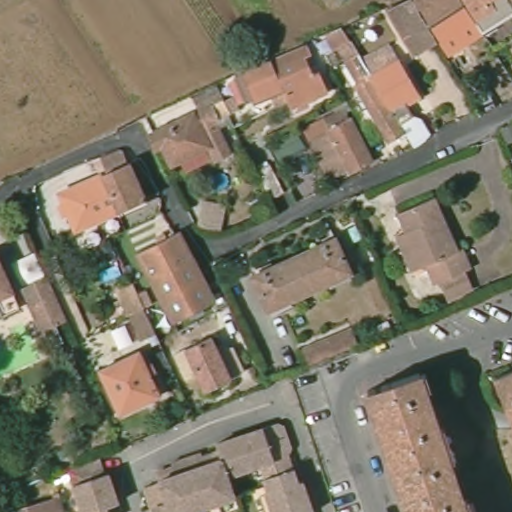pool: (1, 321, 43, 376), (188, 165, 236, 197), (84, 256, 125, 285)
